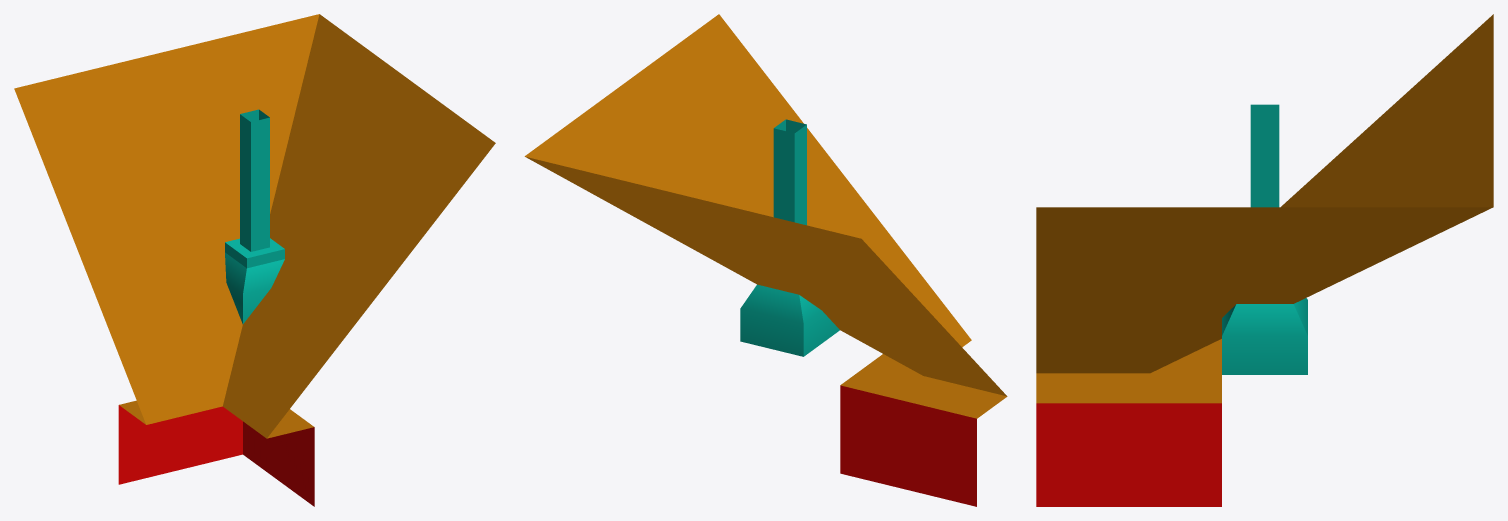
The model's file is None_S_S_E_E_S_E_E_E_BigStrut.fbx.
The picture shows the model from 3 angles, left to right: view 1: azimuth 30°, elevation 25°; view 2: azimuth 150°, elevation 25°; view 3: azimuth 270°, elevation 25°; orthographic projection. The views are drawn at different scales.
Visible parts, largest first — view 1: None_S_S_E_E_S_E_E_E_BigStrut; view 2: None_S_S_E_E_S_E_E_E_BigStrut; view 3: None_S_S_E_E_S_E_E_E_BigStrut.
Part boxes in pixels (bbox=[...]): None_S_S_E_E_S_E_E_E_BigStrut: bbox=[14, 14, 495, 506]; None_S_S_E_E_S_E_E_E_BigStrut: bbox=[524, 14, 1007, 506]; None_S_S_E_E_S_E_E_E_BigStrut: bbox=[1036, 14, 1493, 506].
Size of the model in its own units: 100 by 100 by 100.
